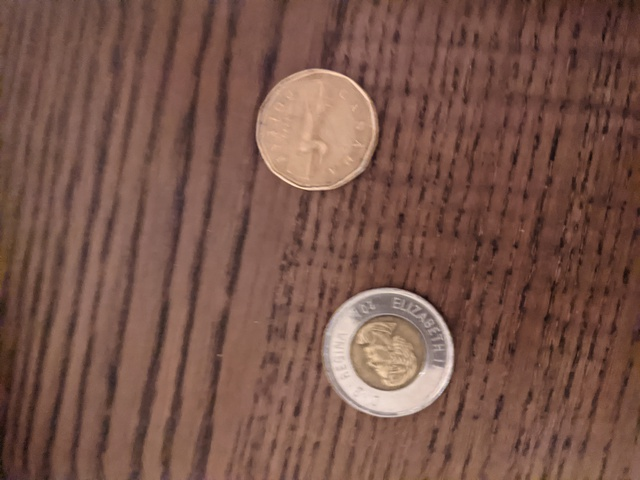loonie: (240, 67, 401, 190)
twonie: (309, 281, 463, 419)
